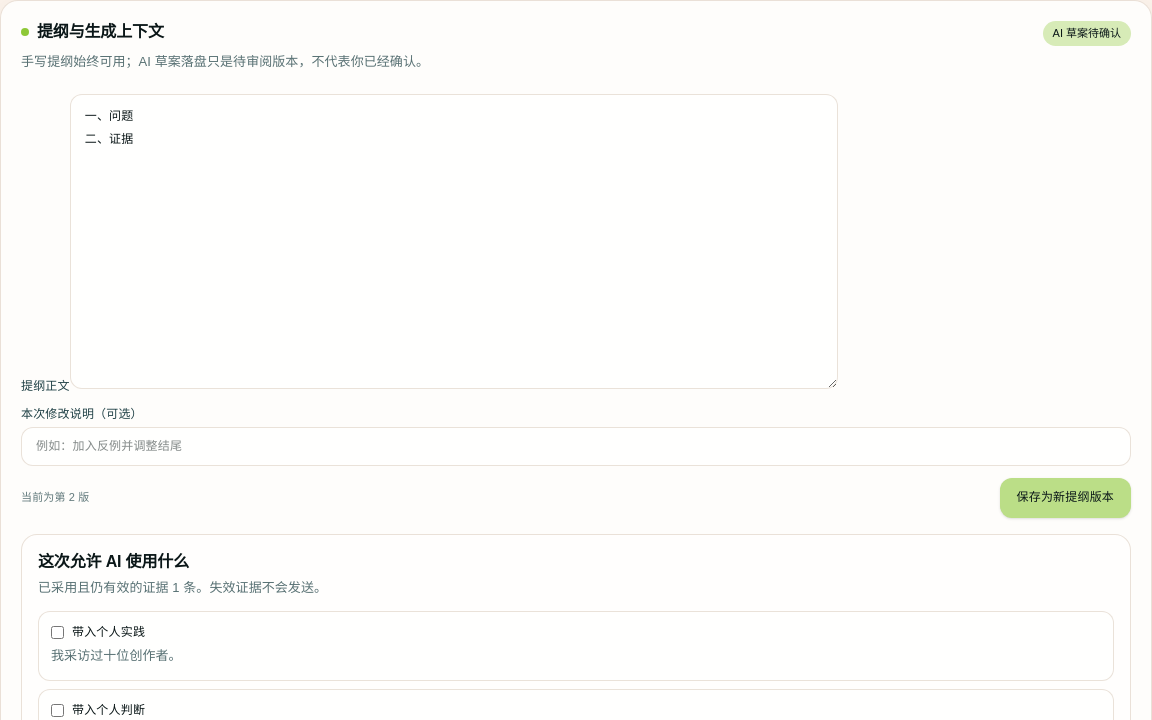
Test case: ProjectOutlineEditor › 只填写提纲修改说明也视为未保存并阻止 AI 读取旧上下文
Type "调整论证顺序" into the field labelled "本次修改说明（可选）" at (576, 446), box [21, 427, 1131, 466]
(page scrolled)
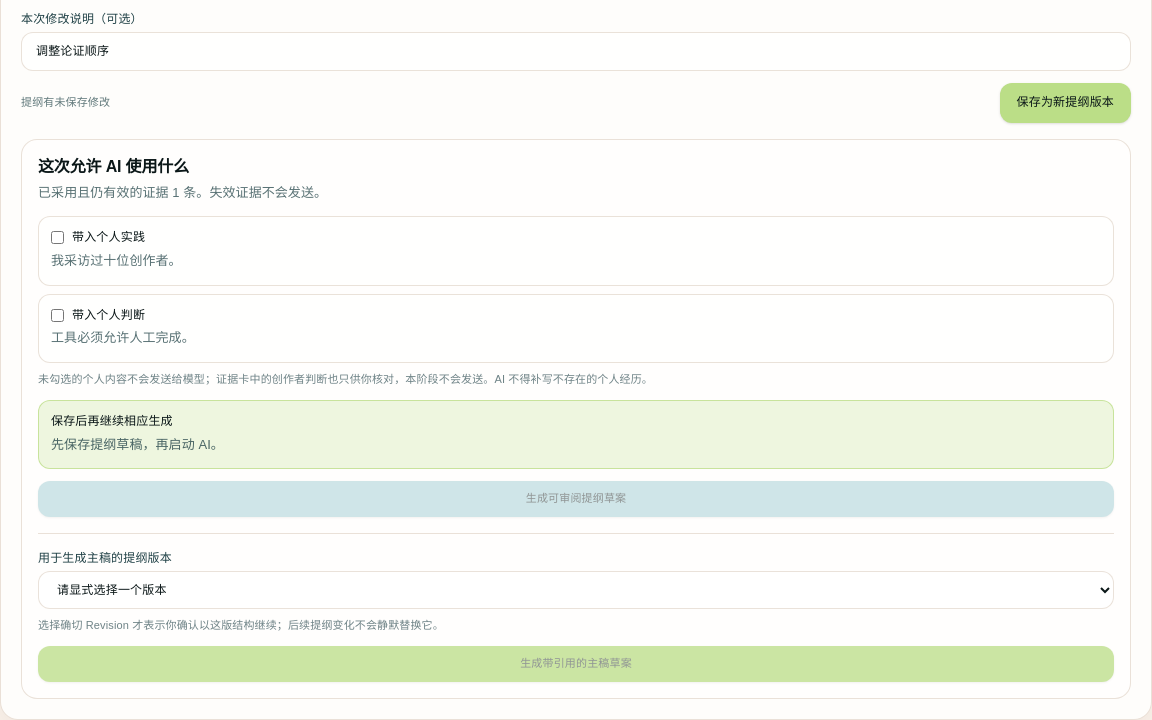
Result: the list item "先保存提纲草稿，再启动 AI。" is shown at [51, 437, 224, 452]
